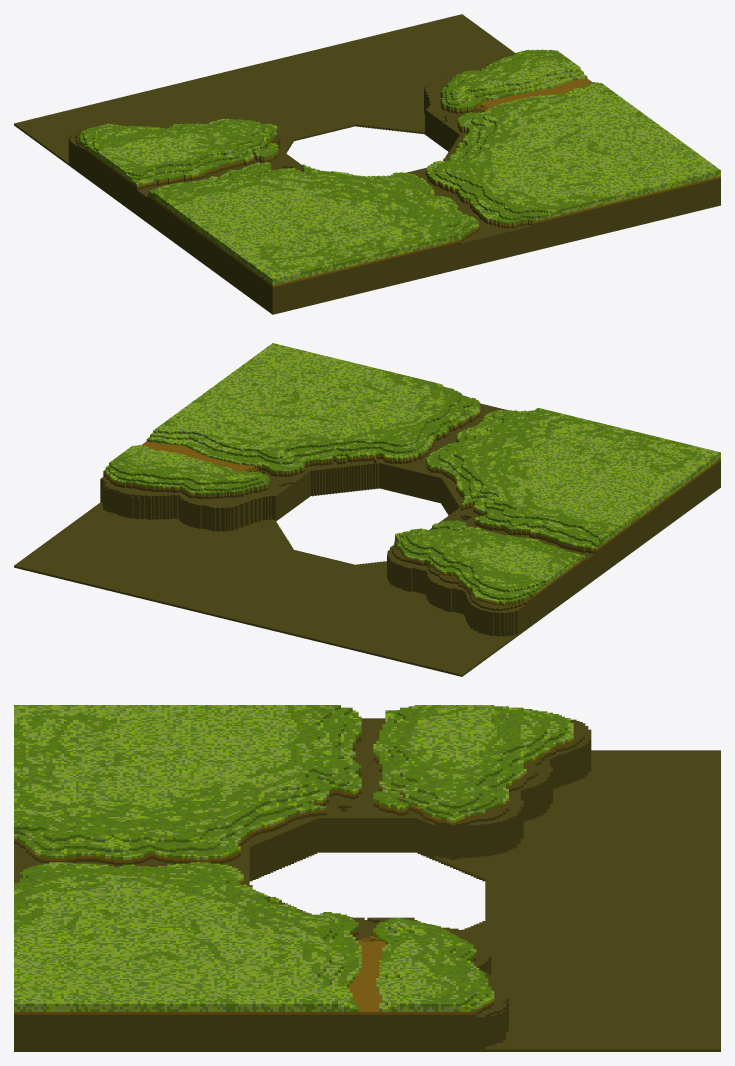
Rendered from Tab E3-0.obj.
3 views of the same model, one above another, from view 1: azimuth 30°, elevation 25°; view 2: azimuth 150°, elevation 25°; view 3: azimuth 270°, elevation 25° (orthographic). The views are drawn at different scales.
Size of the model in its own units: 24 by 1.8 by 24.
Materials: 1 (1 with a texture image).
